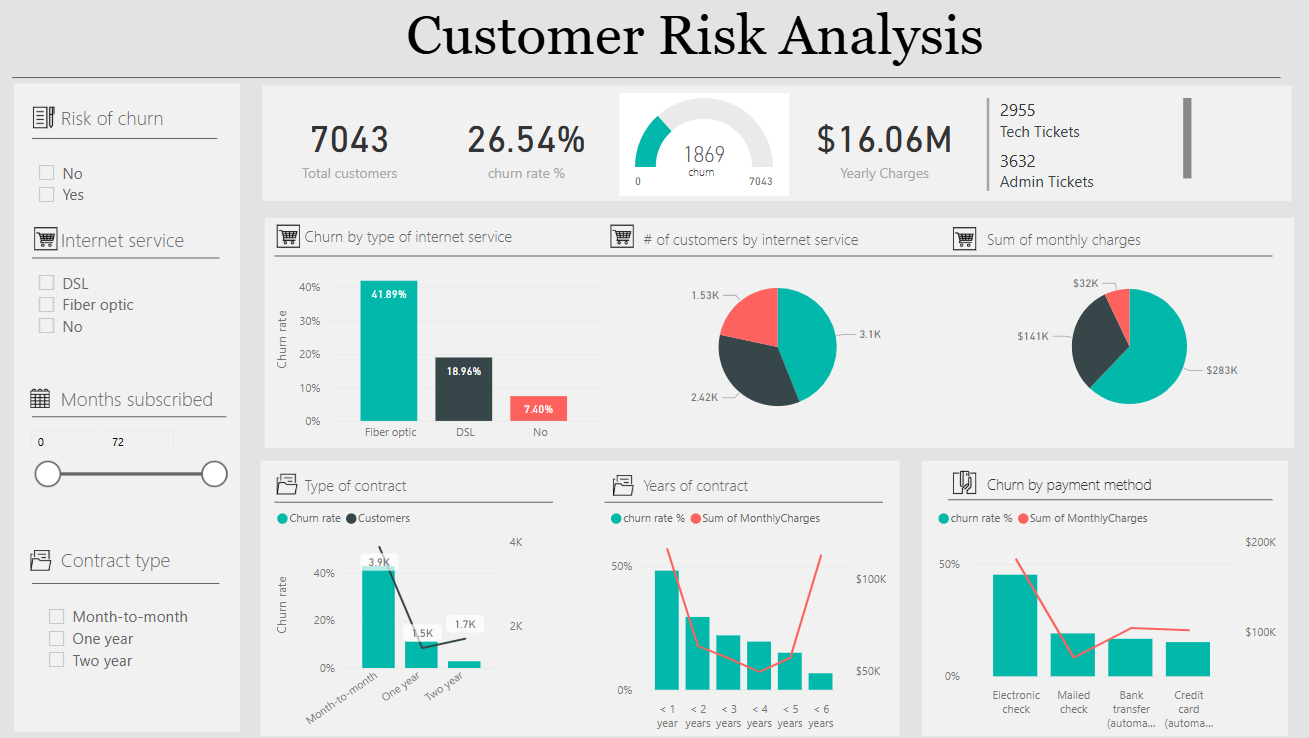

The dashboard page shown, as its layout file describes it:
{"tool":"powerbi","page":{"name":"Customer Risk Analysis","canvas":[1280,720],"ordinal":2},"visuals":[{"type":"basicShape","box":[249.8,87.8,1013.8,113.8],"z":0},{"type":"basicShape","box":[892.2,448.5,360.8,271],"z":1000},{"type":"basicShape","box":[251.8,448.5,628.9,271],"z":2000},{"type":"textbox","box":[94.5,4.8,1167.1,75.2],"z":3000},{"type":"basicShape","box":[9,61,1244.3,40.1],"z":4000},{"type":"basicShape","box":[251.8,214.2,1013.8,226.7],"z":5000},{"type":"basicShape","box":[18.3,81,222.8,638.6],"z":6000},{"type":"card","fields":{"Values":["Count(churn.customerID)"]},"box":[261.4,89,164.9,113.8],"z":7000},{"type":"gauge","fields":{"MaxValue":["CountNonNull(churn.customerID)"],"Y":["churn.Count of Churn for Yes"]},"box":[603.8,96.2,164,99.4],"z":8000},{"type":"slicer","fields":{"Values":["churn.Contract"]},"box":[40.5,584.5,178.4,79.1],"z":9000},{"type":"card","fields":{"Values":["Sum(churn.TotalCharges)"]},"box":[778.4,89,164.9,113.8],"z":10000},{"type":"slicer","fields":{"Values":["churn.Churn"]},"box":[31.8,156.3,173.6,57.9],"z":11000},{"type":"slicer","title":"Number of months subscribed","fields":{"Values":["churn.tenure"]},"box":[24.1,410.9,210.3,70.4],"z":14000},{"type":"textbox","box":[59.8,102.2,174.6,40.5],"z":16000},{"type":"basicShape","box":[28,120.6,198.7,39.5],"z":17000},{"type":"textbox","box":[59.8,374.3,185.2,39.5],"z":18000},{"type":"basicShape","box":[28,389.7,207.4,38.6],"z":19000},{"type":"basicShape","box":[28,549.8,200.6,39.5],"z":20000},{"type":"image","box":[31.8,374.3,28,34.7],"z":21000},{"type":"textbox","box":[59.8,529.6,159.2,40.5],"z":22000},{"type":"image","box":[31.8,105.1,34.7,30.9],"z":23000},{"type":"image","box":[31.8,524.7,29.9,45.3],"z":24000},{"type":"textbox","box":[59.8,221.2,180.4,40.5],"z":25000},{"type":"basicShape","box":[28,237,200.6,38.6],"z":26000},{"type":"slicer","fields":{"Values":["churn.InternetService"]},"box":[31.8,263.3,200.6,78.1],"z":27000},{"type":"card","fields":{"Values":["churn.churn rate %"]},"box":[437,89,156.3,113.8],"z":28000},{"type":"lineClusteredColumnComboChart","fields":{"Category":["churn.Contract"],"Y":["churn.churn rate %"],"Y2":["CountNonNull(churn.customerID)"]},"box":[269.1,489,246.9,230.5],"z":29000},{"type":"lineClusteredColumnComboChart","fields":{"Y":["churn.churn rate %"],"Y2":["Sum(churn.MonthlyCharges)"],"Category":["churn.Loyalty"]},"box":[591.3,489,276.8,230.5],"z":30000},{"type":"textbox","box":[296.1,220,300.9,40.5],"z":31000},{"type":"basicShape","box":[261.4,234.4,982.9,39.5],"z":32000},{"type":"clusteredColumnChart","fields":{"Category":["churn.InternetService"],"Y":["churn.churn rate %"]},"box":[269.1,242.1,322.2,198.7],"z":33000},{"type":"pieChart","fields":{"Y":["Sum(churn.MonthlyCharges)"],"Category":["churn.InternetService"]},"box":[949.1,264.3,295.2,154.3],"z":34000},{"type":"pieChart","fields":{"Category":["churn.InternetService"],"Y":["CountNonNull(churn.customerID)"]},"box":[622.2,261.4,270.1,160.1],"z":35000},{"type":"textbox","box":[954,221.9,283.6,40.5],"z":36000},{"type":"textbox","box":[622.2,221.9,285.5,40.5],"z":37000},{"type":"basicShape","box":[261.4,471.7,288.4,39.5],"z":38000},{"type":"textbox","box":[296.1,459.1,237.3,40.5],"z":39000},{"type":"textbox","box":[622.2,459.1,270.1,40.5],"z":40000},{"type":"basicShape","box":[579.7,471.7,288.4,39.5],"z":41000},{"type":"lineClusteredColumnComboChart","fields":{"Y":["churn.churn rate %"],"Y2":["Sum(churn.MonthlyCharges)"],"Category":["churn.PaymentMethod"]},"box":[907.7,489,336.6,230.5],"z":42000},{"type":"basicShape","box":[911.5,469.8,332.8,39.5],"z":43000},{"type":"textbox","box":[954.3,459.1,270.1,40.5],"z":44000},{"type":"multiRowCard","fields":{"Values":["Sum(churn.numTechTickets)","Sum(churn.numAdminTickets)"]},"box":[954,96.2,207.4,99.4],"z":45000},{"type":"image","box":[922.1,452.4,31.8,39.5],"z":46000},{"type":"image","box":[593.2,452.4,29.9,45.3],"z":47000},{"type":"image","box":[269.1,451.4,29.9,45.3],"z":48000},{"type":"image","box":[34.7,219.9,31.8,34.7],"z":49000},{"type":"image","box":[269.1,217,31.8,34.7],"z":50000},{"type":"image","box":[591.3,217,31.8,34.7],"z":51000},{"type":"image","box":[922.1,219.9,31.8,34.7],"z":52000},{"type":"textbox","box":[666.5,156.3,57.9,28.9],"z":53000}]}

Visuals, with their boxes in screenshot pixels (x1, y1, x2, y2), scaled from the page's 1280x720 canvas onto the 1309x738 screenshot:
basicShape: 255,90,1292,207
basicShape: 912,460,1281,737
basicShape: 258,460,901,737
textbox: 97,5,1290,82
basicShape: 9,63,1282,104
basicShape: 258,220,1294,452
basicShape: 19,83,247,737
card - Count(churn.customerID): 267,91,436,208
gauge - CountNonNull(churn.customerID) x churn.Count of Churn for Yes: 617,99,785,200
slicer - churn.Contract: 41,599,224,680
card - Sum(churn.TotalCharges): 796,91,965,208
slicer - churn.Churn: 33,160,210,220
"Number of months subscribed" slicer: 25,421,240,493
textbox: 61,105,240,146
basicShape: 29,124,232,164
textbox: 61,384,251,424
basicShape: 29,399,241,439
basicShape: 29,564,234,604
image: 33,384,61,419
textbox: 61,543,224,584
image: 33,108,68,139
image: 33,538,63,584
textbox: 61,227,246,268
basicShape: 29,243,234,282
slicer - churn.InternetService: 33,270,238,350
card - churn.churn rate %: 447,91,607,208
lineClusteredColumnComboChart - churn.Contract x churn.churn rate %: 275,501,528,737
lineClusteredColumnComboChart - churn.churn rate % x Sum(churn.MonthlyCharges): 605,501,888,737
textbox: 303,225,611,267
basicShape: 267,240,1272,281
clusteredColumnChart - churn.InternetService x churn.churn rate %: 275,248,605,452
pieChart - Sum(churn.MonthlyCharges) x churn.InternetService: 971,271,1272,429
pieChart - churn.InternetService x CountNonNull(churn.customerID): 636,268,913,432
textbox: 976,227,1266,269
textbox: 636,227,928,269
basicShape: 267,483,562,524
textbox: 303,471,545,512
textbox: 636,471,913,512
basicShape: 593,483,888,524
lineClusteredColumnComboChart - churn.churn rate % x Sum(churn.MonthlyCharges): 928,501,1272,737
basicShape: 932,482,1272,522
textbox: 976,471,1252,512
multiRowCard - Sum(churn.numTechTickets) x Sum(churn.numAdminTickets): 976,99,1188,200
image: 943,464,976,504
image: 607,464,637,510
image: 275,463,306,509
image: 35,225,68,261
image: 275,222,308,258
image: 605,222,637,258
image: 943,225,976,261
textbox: 682,160,741,190
